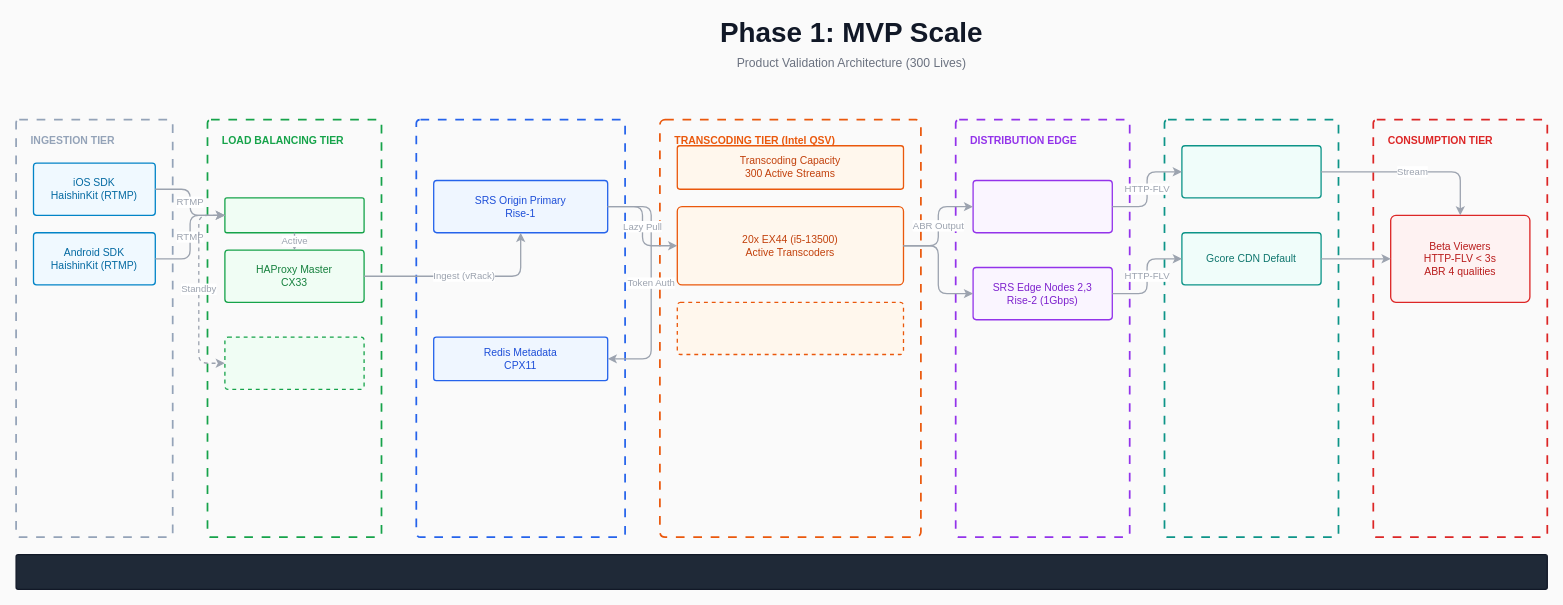
Some shapes in this 1563 by 605 pixel diagram are drawn without their labels. Here are the shapes that lost their labels. From the top down, the box of each, then its label:
(1181, 145, 1321, 198): Bunny CDN Premium
(224, 197, 364, 233): Keepalived VIP (Failover < 2s)
(972, 179, 1113, 233): SRS Edge Node 1 Rise-2 (1Gbps)
(415, 118, 626, 538): ORIGIN & CONTROL TIER
(676, 301, 904, 355): 1x EX44 Hot Standby Pool
(1163, 118, 1339, 538): CDN LAYER
(224, 336, 364, 390): HAProxy Backup CX33
(15, 554, 1548, 590): OBSERVABILITY SUBSYSTEM: AX41 NVMe (Prometheus, Grafana, Full Alerting)
